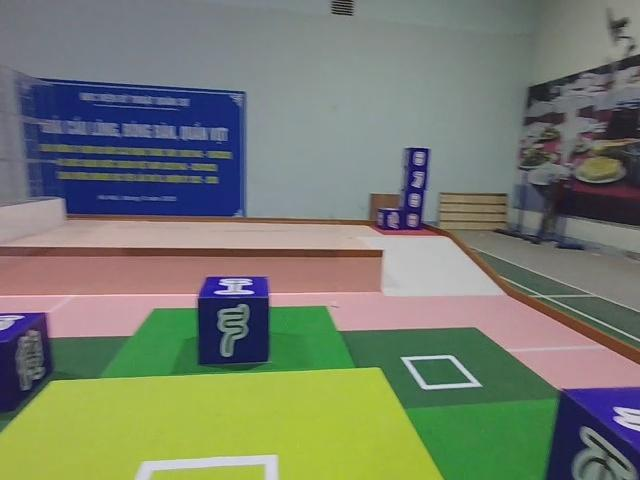R2 Fake Blue: (539, 386, 638, 480), (195, 276, 271, 369), (0, 315, 52, 419)
